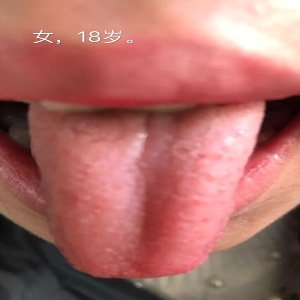st: (28, 117, 259, 278)
